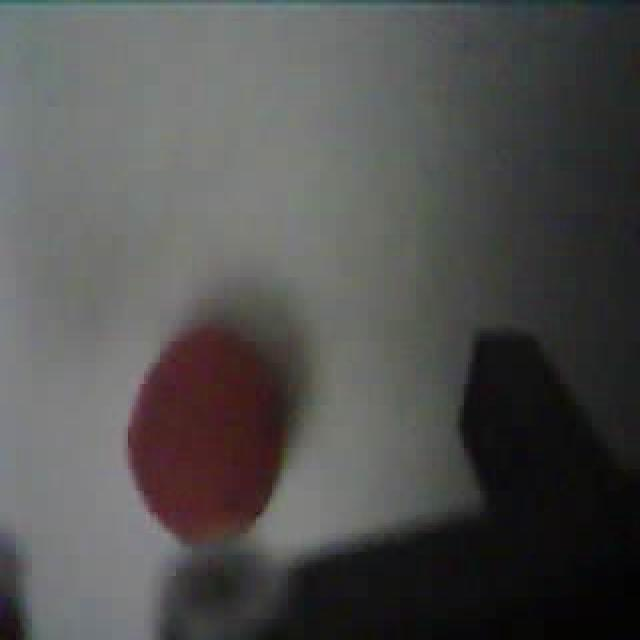red_ball: (124, 318, 292, 550)
